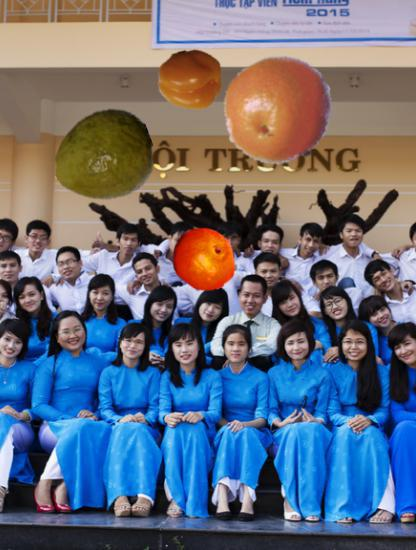Clementine: (168, 224, 237, 293)
Guava: (51, 105, 154, 208)
Pepper: (157, 47, 225, 115)
Tangelo: (222, 55, 336, 169)
